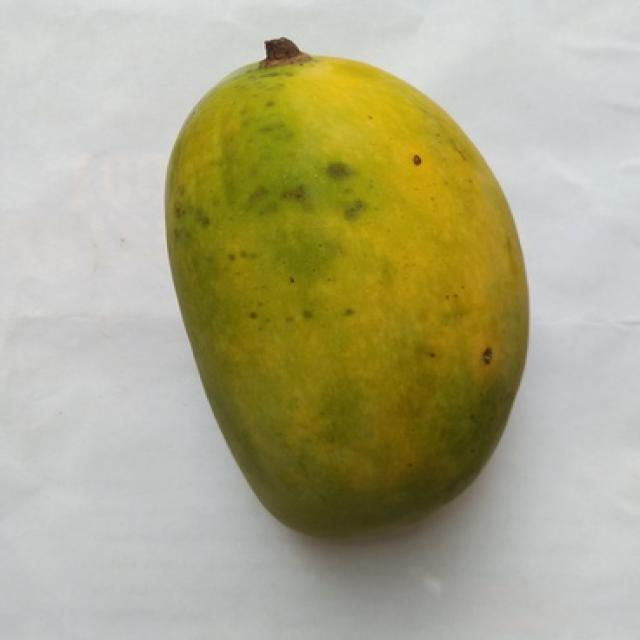Mango: (167, 53, 527, 535)
objects: (162, 36, 530, 539)
